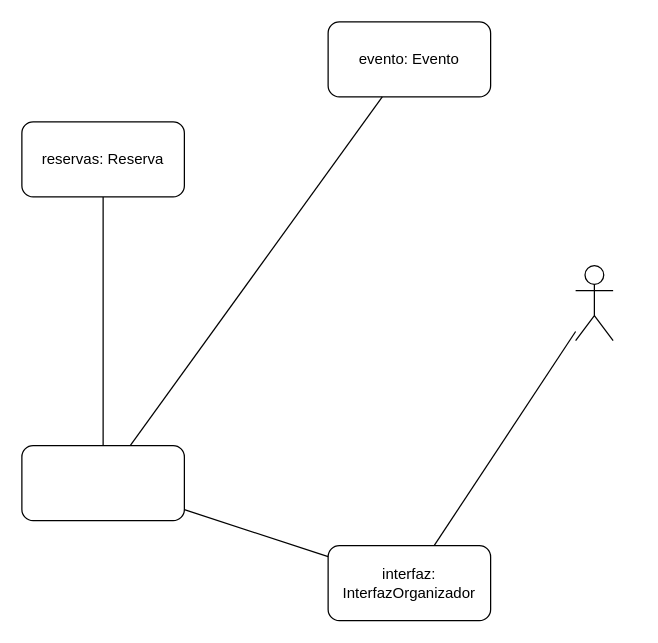
Image size: 658x643. Some labels were removed from this diagram. The shapes that lost their labels are listed below. From the top down, each one's box as (x1, y1, x2, y2) in pixels, then its label:
(574, 264, 613, 341): Organizador
(21, 444, 184, 521): reporte: ReporteReservas
